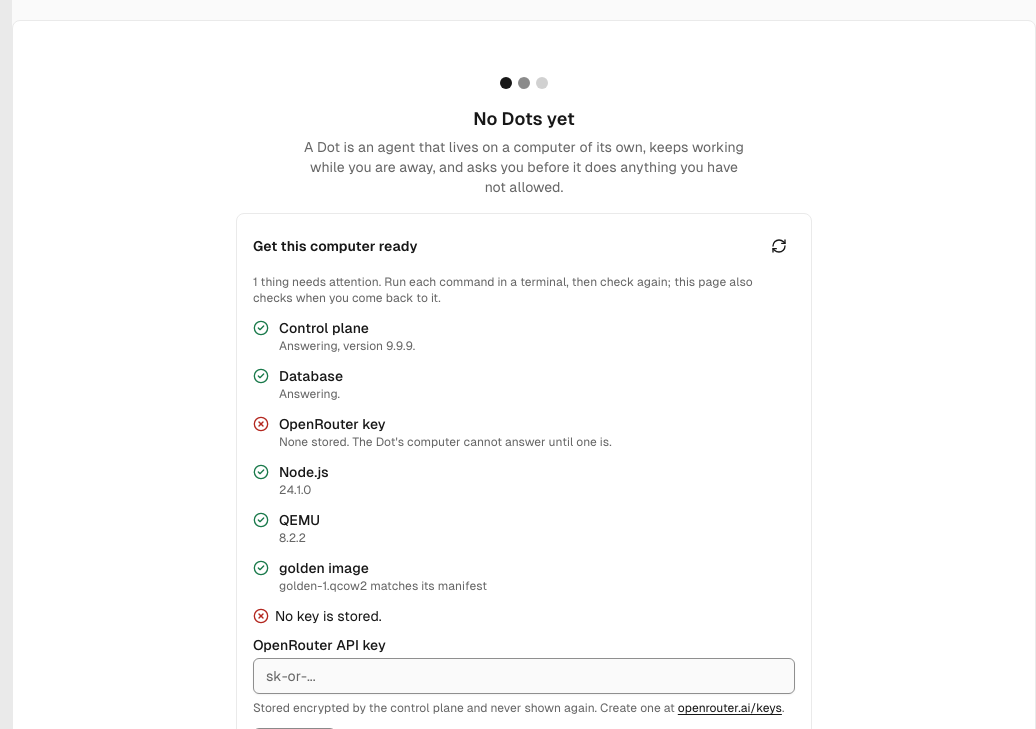
Home › keeps the checklist on the page, turned green, when the last thing is fixed
Type "sk-or-onboarding" into the password field labelled "OpenRouter API key" at [524, 676], box [253,658,795,694]
(page scrolled)
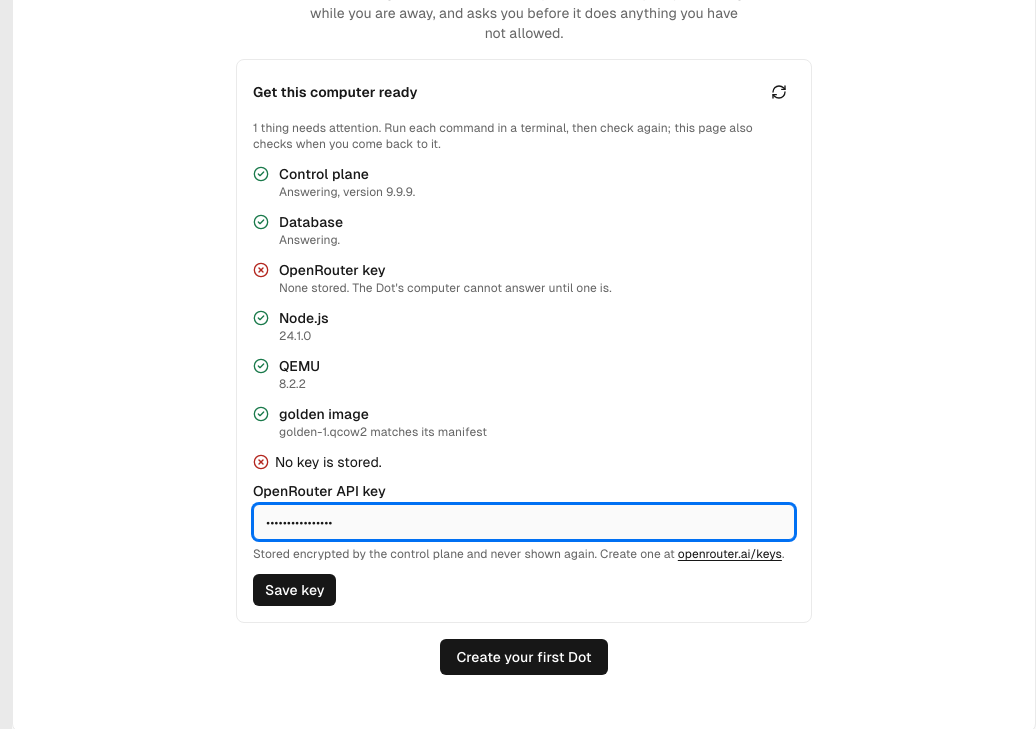
Click the button "Save key" at [295, 590], box [253,574,336,606]
(page scrolled)
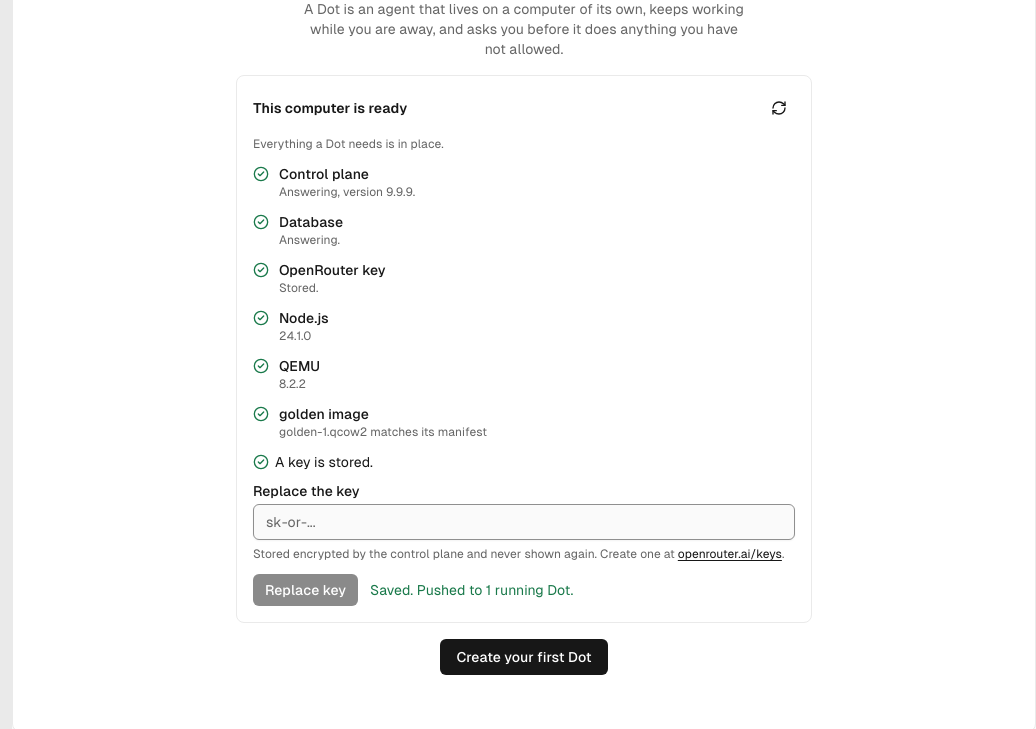
Now the text "Saved. Pushed to 1 running Dot." is shown, box [370,580,573,600]
Now the text "Everything a Dot needs is in place." is shown, box [253,137,444,151]
